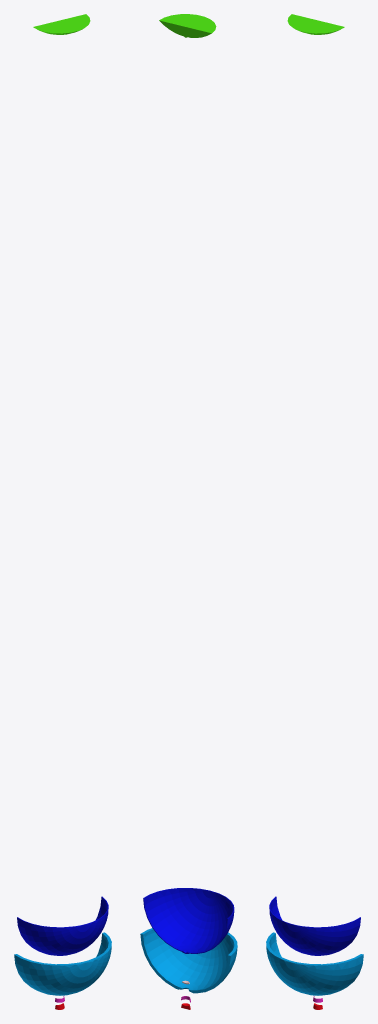
File: model_abaqus.glb
3 views of the same model, side by side, from view 1: azimuth 30°, elevation 25°; view 2: azimuth 150°, elevation 25°; view 3: azimuth 330°, elevation 25° (orthographic).
Visible parts, largest first — view 1: esclera, retina, tapon; view 2: retina, esclera, tapon; view 3: esclera, retina, tapon.
Part boxes in pixels (x1=…): esclera: x1=14, y1=932, x2=111, y2=995; retina: x1=17, y1=896, x2=108, y2=955; tapon: x1=33, y1=14, x2=90, y2=34; retina: x1=143, y1=888, x2=234, y2=953; esclera: x1=140, y1=928, x2=237, y2=993; tapon: x1=159, y1=14, x2=216, y2=37; esclera: x1=266, y1=932, x2=363, y2=995; retina: x1=269, y1=896, x2=360, y2=955; tapon: x1=287, y1=14, x2=344, y2=34.
Size of the model in its own units: 26 by 270 by 13.
